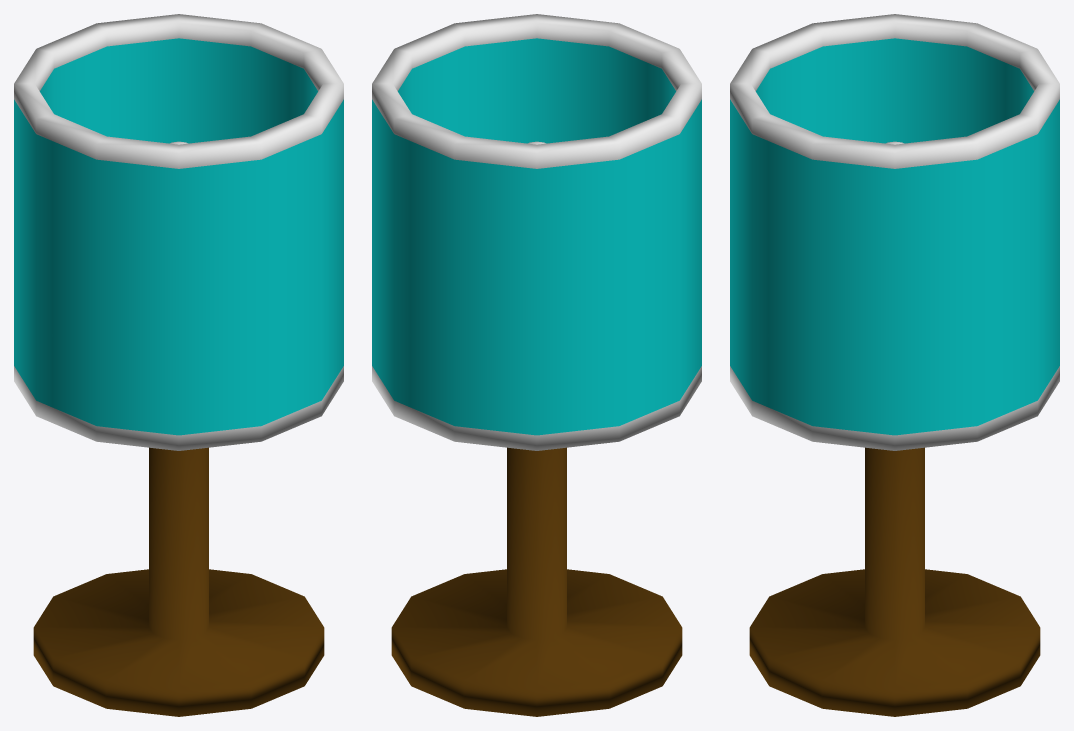
Rendered from Lamp_small.fbx.
3 renders of one model, left to right at view 1: azimuth 30°, elevation 25°; view 2: azimuth 150°, elevation 25°; view 3: azimuth 270°, elevation 25°, orthographic.
Parts seen in each view (by area): view 1: Lamp_small; view 2: Lamp_small; view 3: Lamp_small.
Part boxes in pixels (left/top/right/bottom): Lamp_small: left=14, top=14, right=343, bottom=716; Lamp_small: left=372, top=14, right=701, bottom=716; Lamp_small: left=730, top=14, right=1059, bottom=716.
Size of the model in its own units: 1.77 by 3.38 by 1.77.
